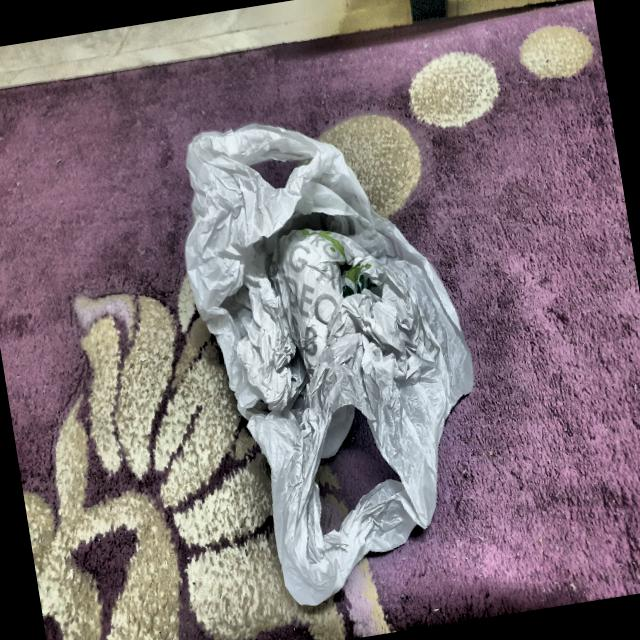plastic bag: (158, 79, 518, 626)
